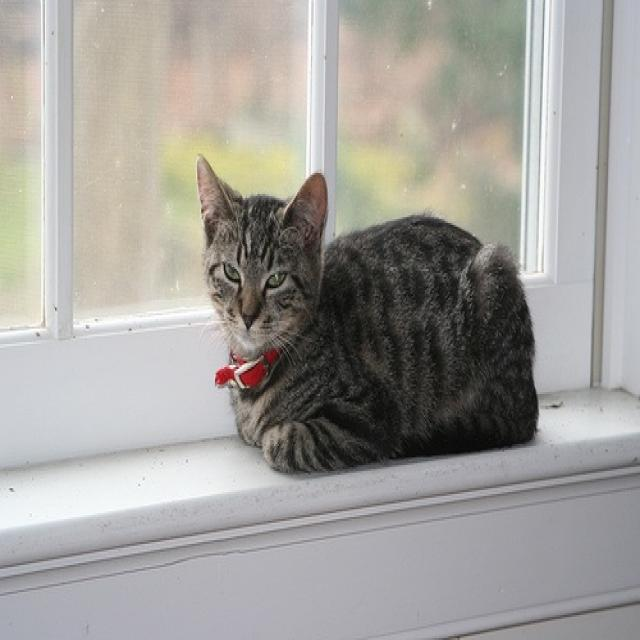cat: (194, 153, 539, 474)
